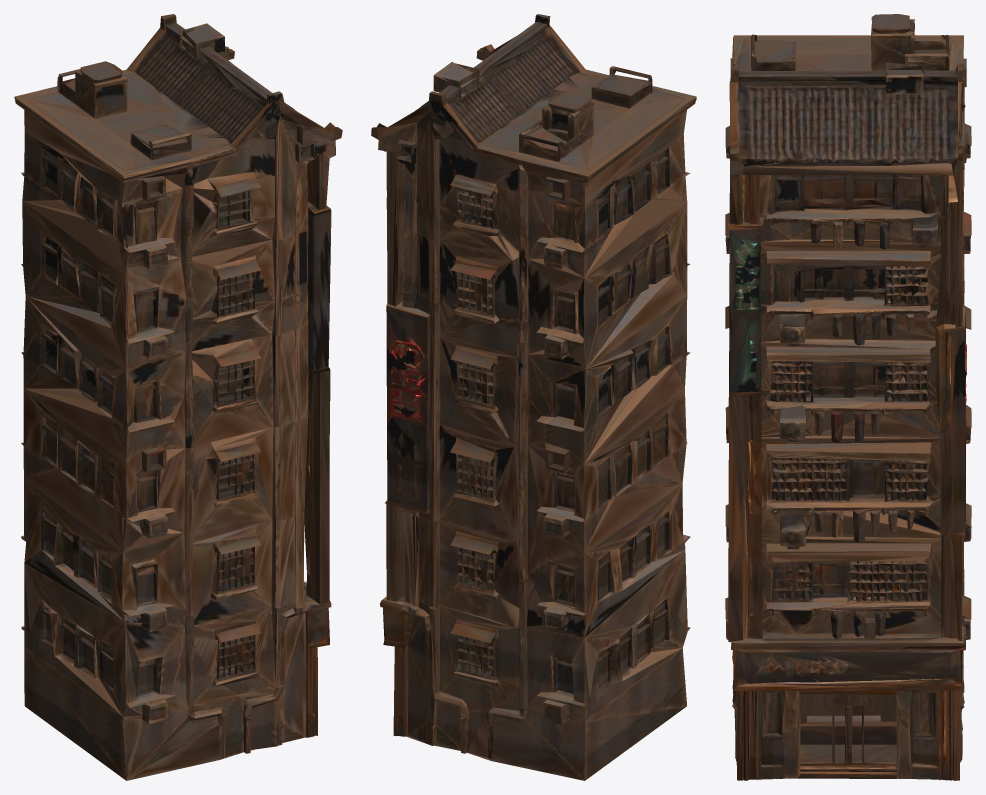
3 views of the same model, side by side, from view 1: azimuth 30°, elevation 25°; view 2: azimuth 150°, elevation 25°; view 3: azimuth 270°, elevation 25° (orthographic). The views are drawn at different scales.
Visible parts, largest first — view 1: o03; view 2: o03; view 3: o03.
Part boxes in pixels (<box>): o03: <box>14,14,342,780</box>; o03: <box>371,14,696,780</box>; o03: <box>725,14,971,780</box>.
Size of the model in its own units: 10.46 by 30 by 9.68.
Materials: 1 (1 with a texture image).
